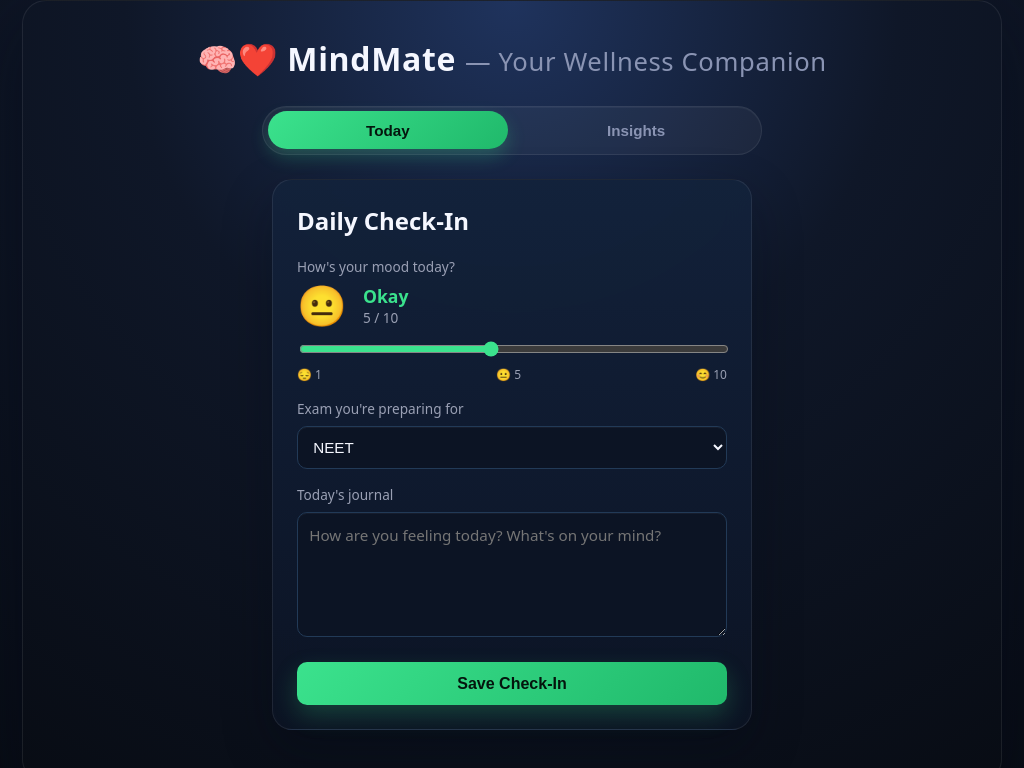
Test: App › switches to the Insights tab
Click the button "Insights" at (636, 130), box x1=516 y1=111 x2=756 y2=149
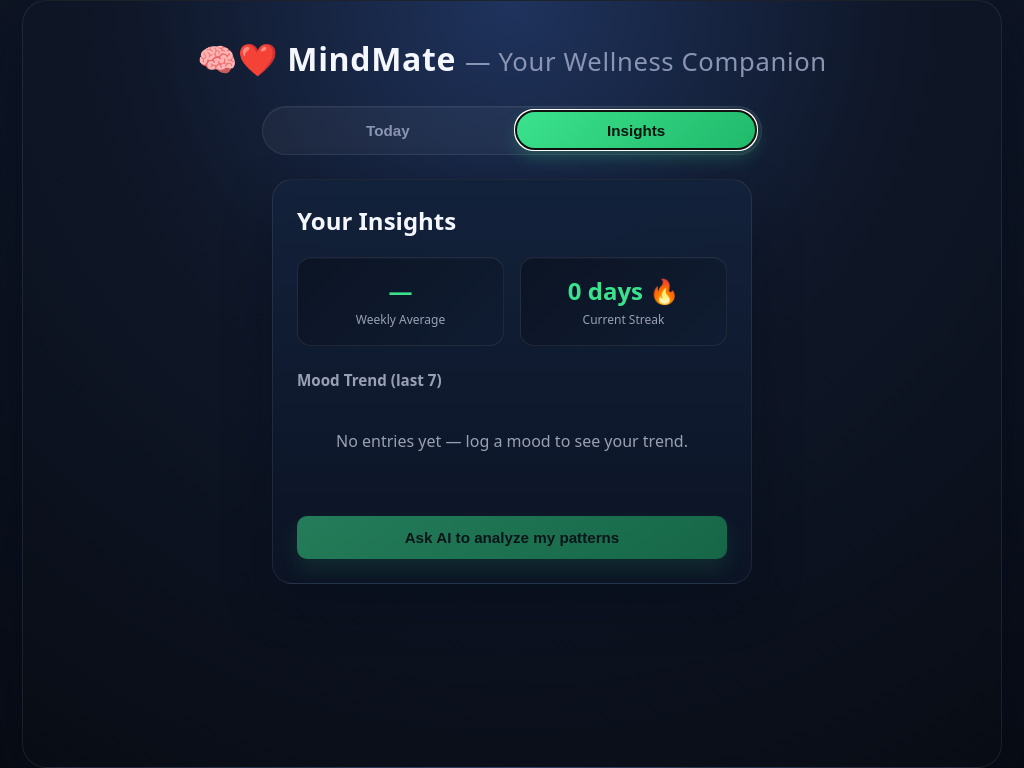
expect the heading "Your Insights" is shown: met, box x1=297 y1=204 x2=456 y2=237
